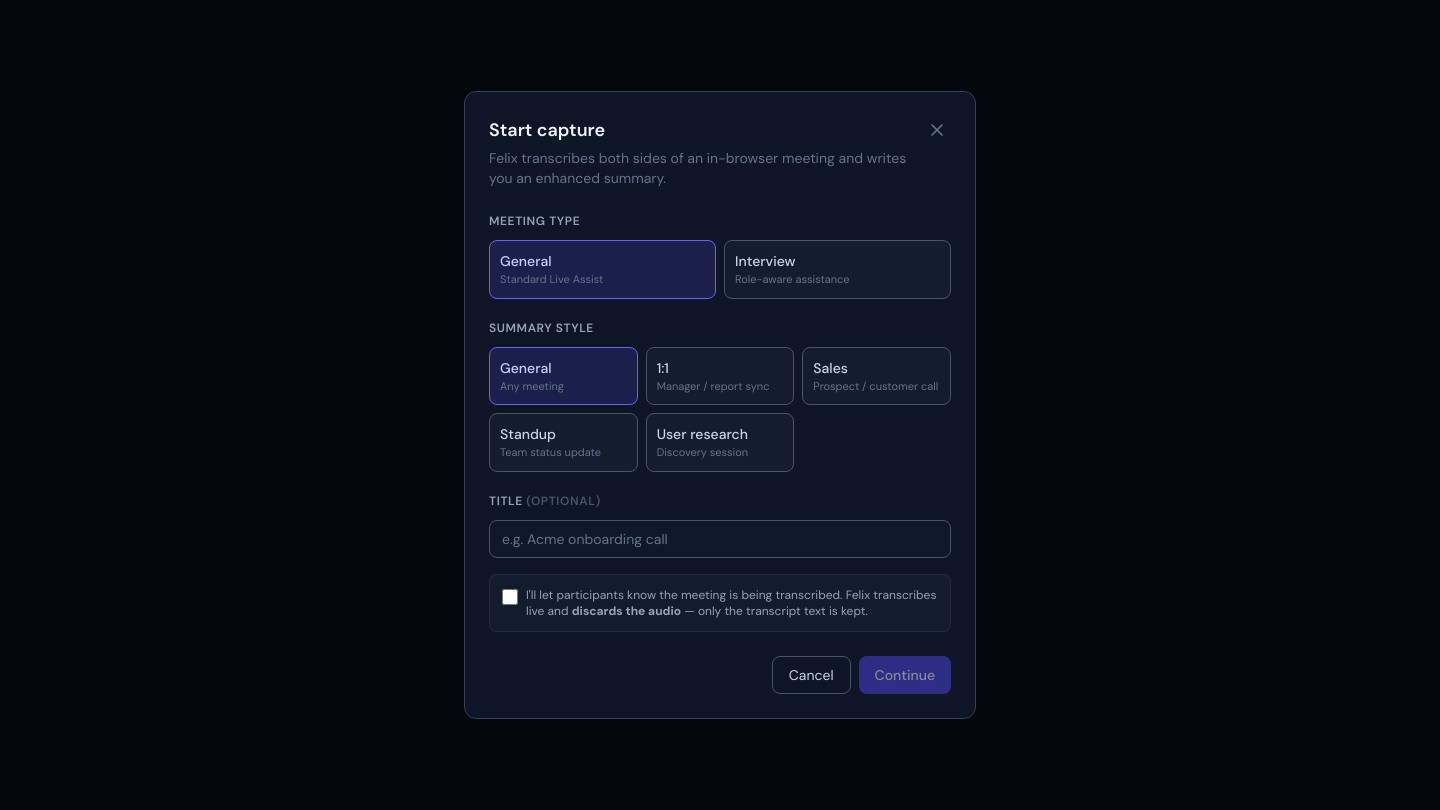
Test case: StartCaptureModal meeting mode › surfaces an error when starting fails instead of silently resetting
Click the checkbox at point(510, 597), box 502,589 -> 518,605
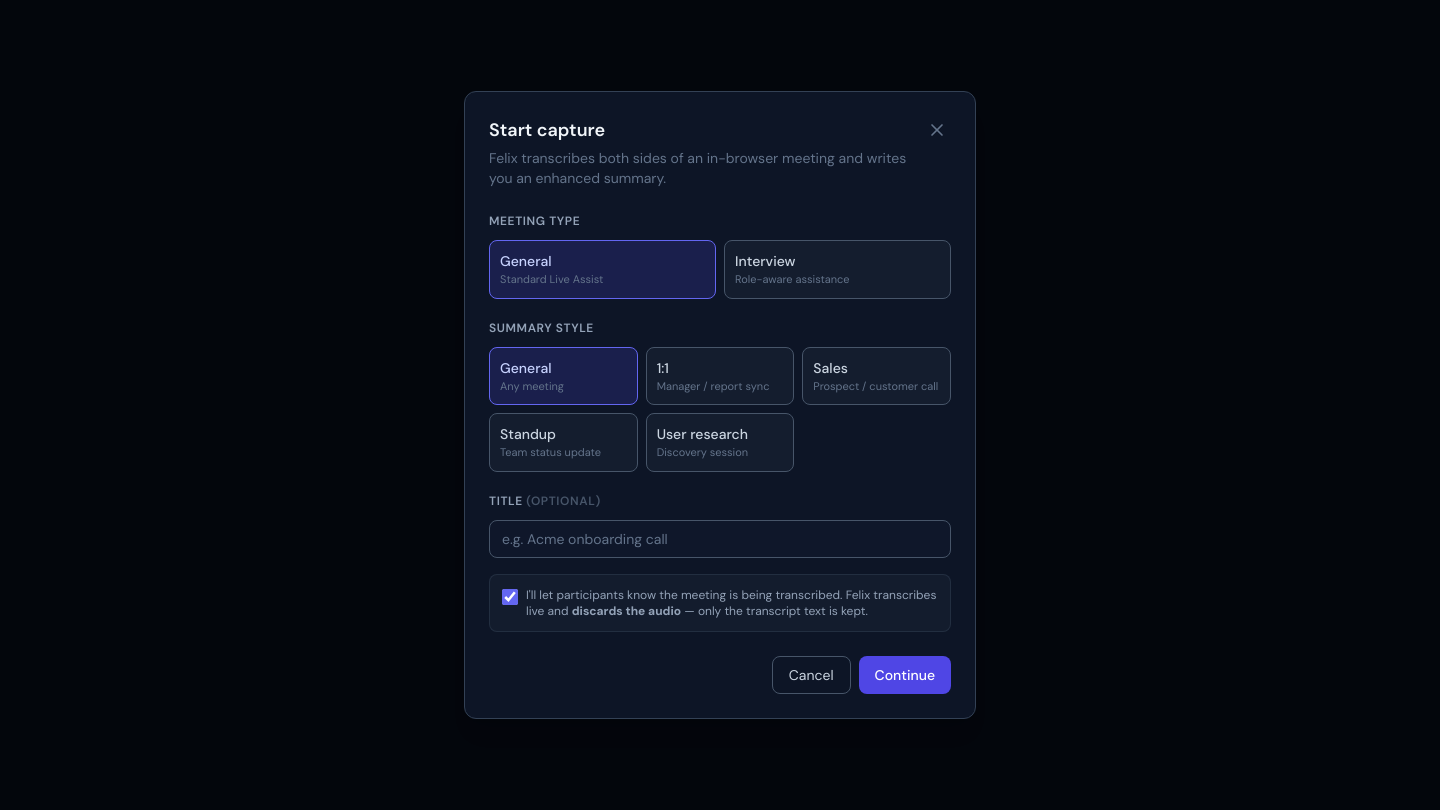
Click the button "Continue" at point(905, 675), box 858,656 -> 951,694
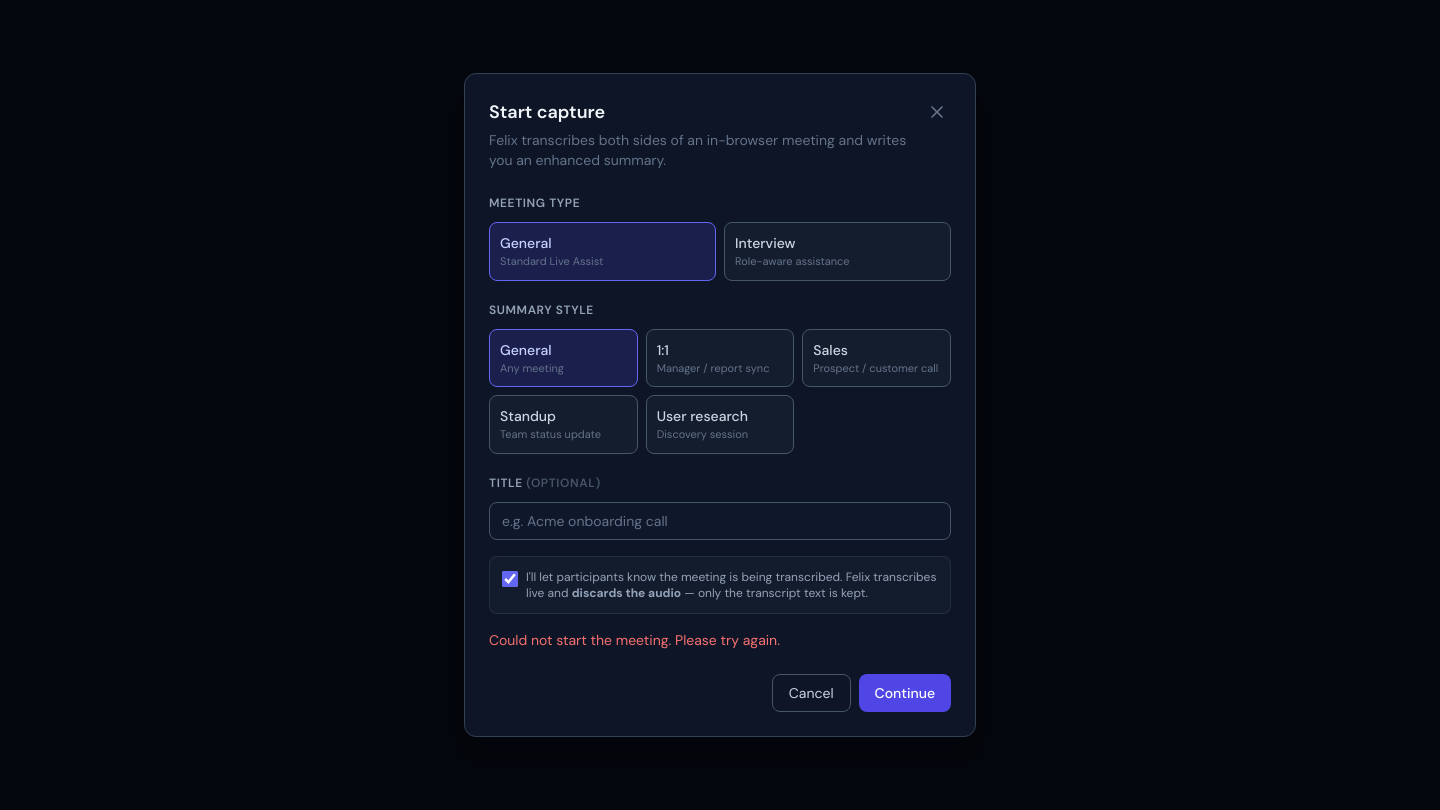
Check: the button "Continue" is enabled, box 858,674 -> 951,712
Check: the message shows "Could not start", box 489,631 -> 780,649
